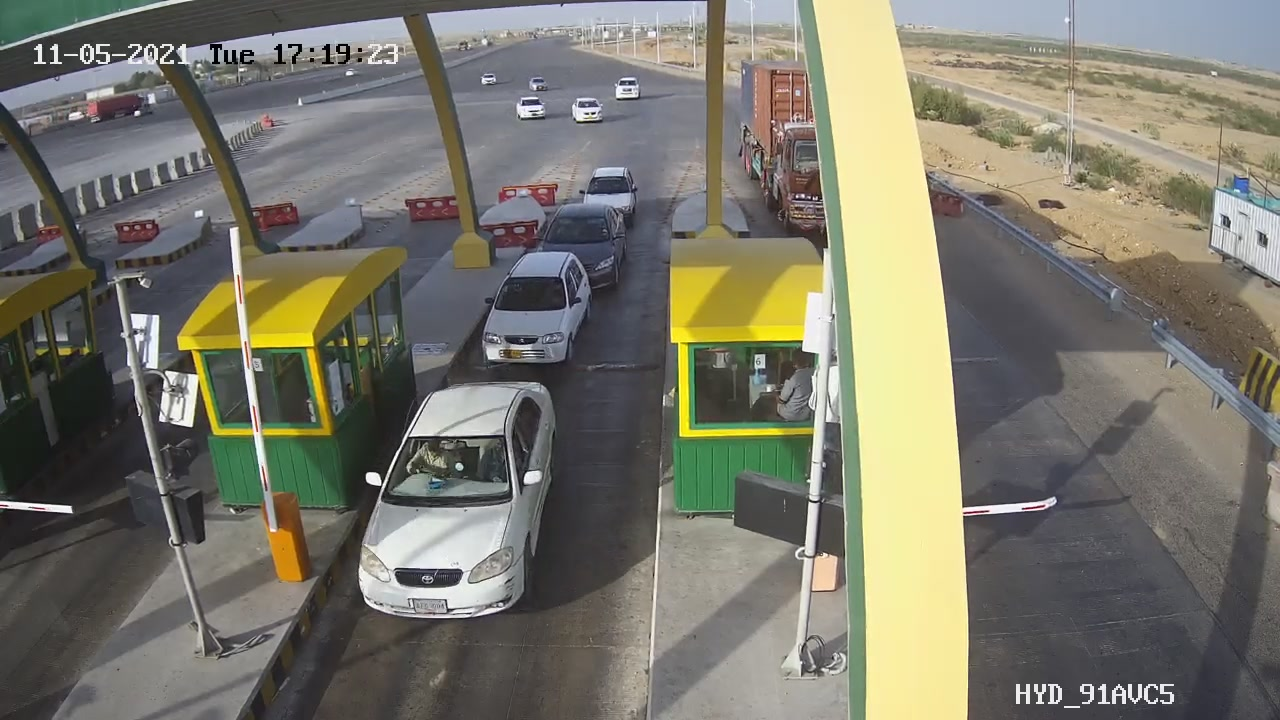F1: (342, 365, 578, 636), (470, 240, 604, 374)
